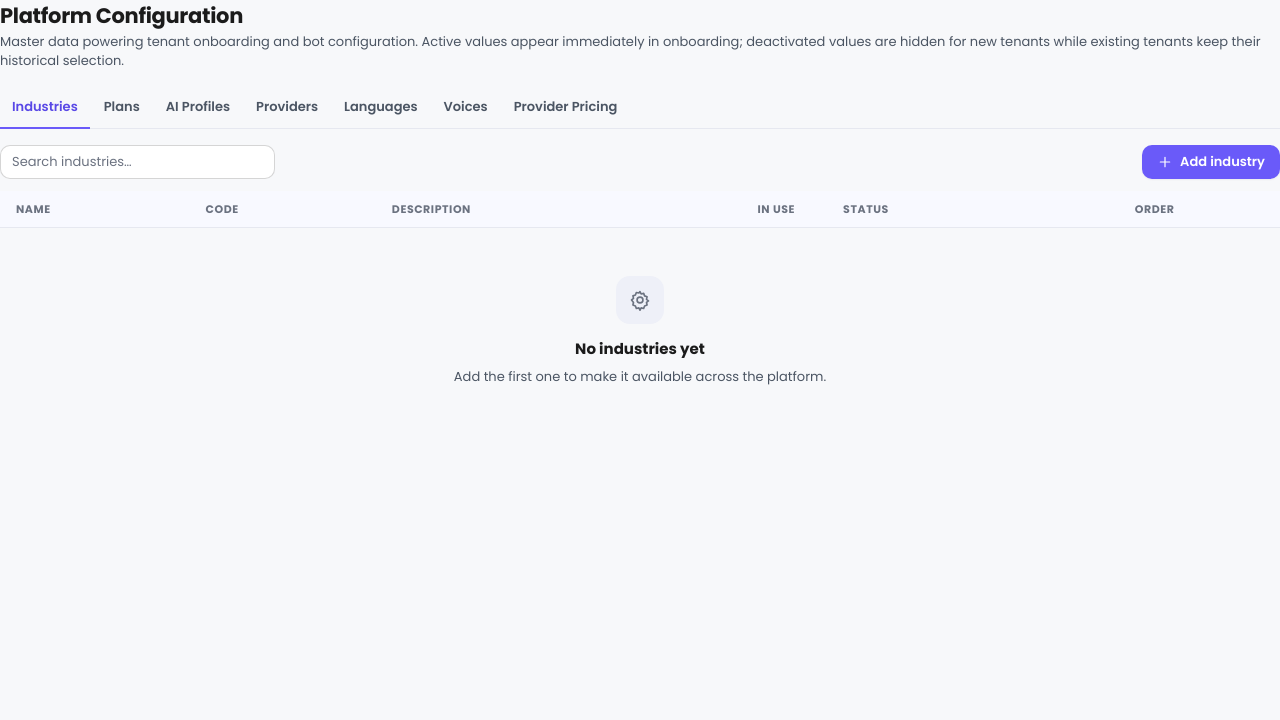
it: VoiceEditor — provider-specific fields › requires the provider first: model disabled, settings show a hint
The width and height of the screenshot is (1280, 720).
Click the tab "Voices" at (466, 108), box top-left (432, 86), bottom-right (500, 128)
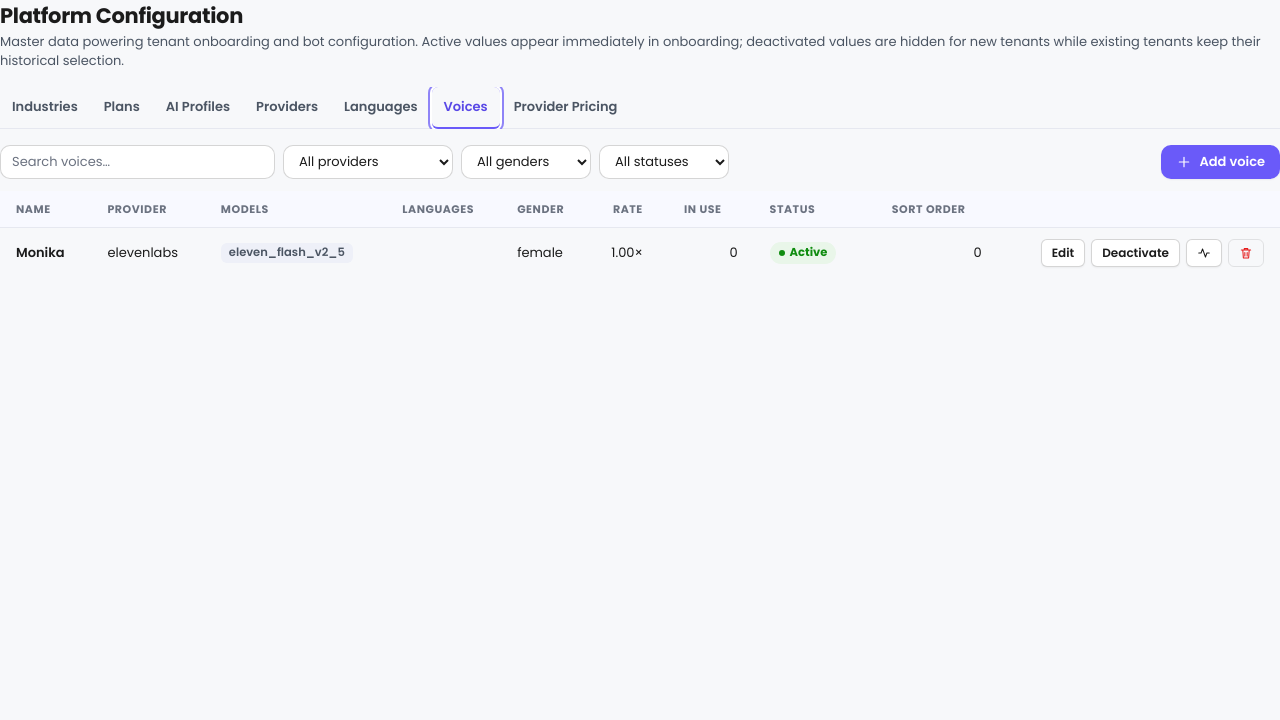
Check: the text "Monika" is shown, box top-left (16, 243), bottom-right (65, 263)
Click the button "Add voice" at (1221, 162), box top-left (1161, 144), bottom-right (1279, 178)
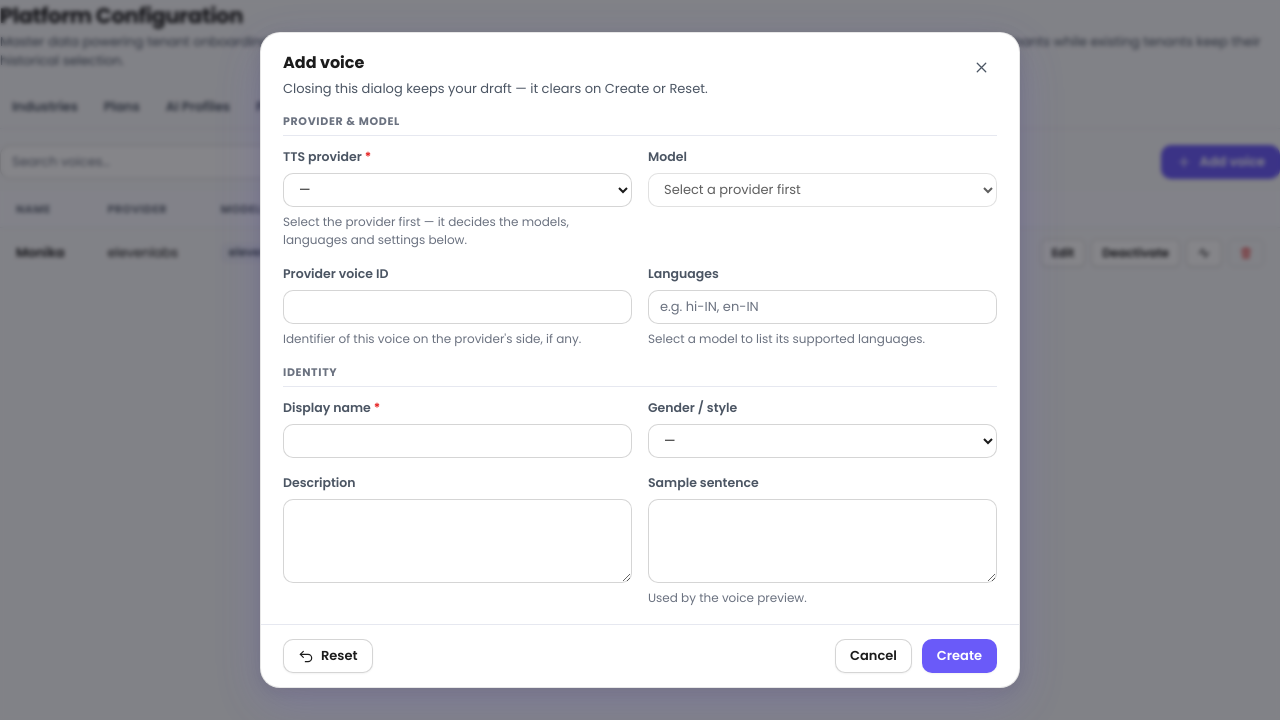
Check: the dialog "Add voice" is shown, box top-left (260, 32), bottom-right (1020, 688)
Check: the dropdown labelled "Model" is disabled, box top-left (648, 173), bottom-right (997, 207)
